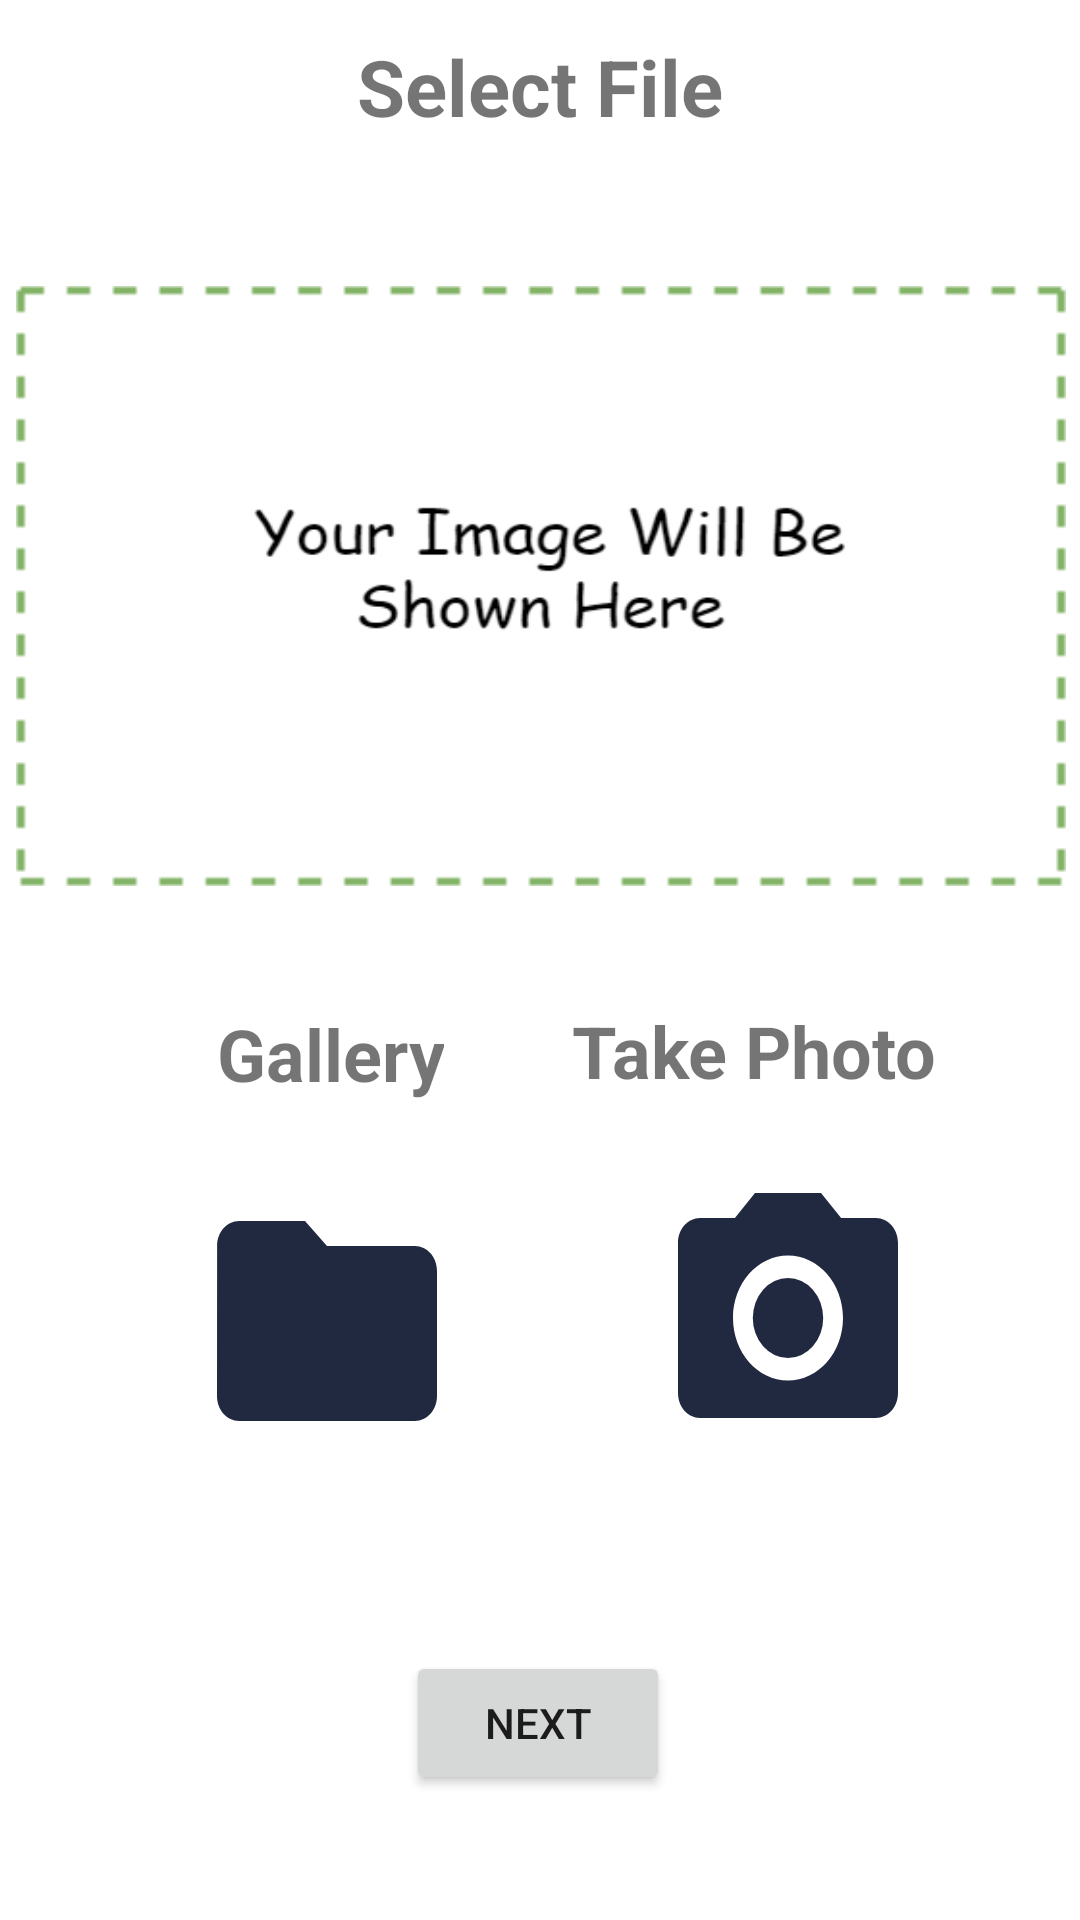

Screen size 1080 × 1920. Icon name, then its box in pixels as (x1, y1, x2, y2):
photo camera: (678, 1193, 898, 1418)
